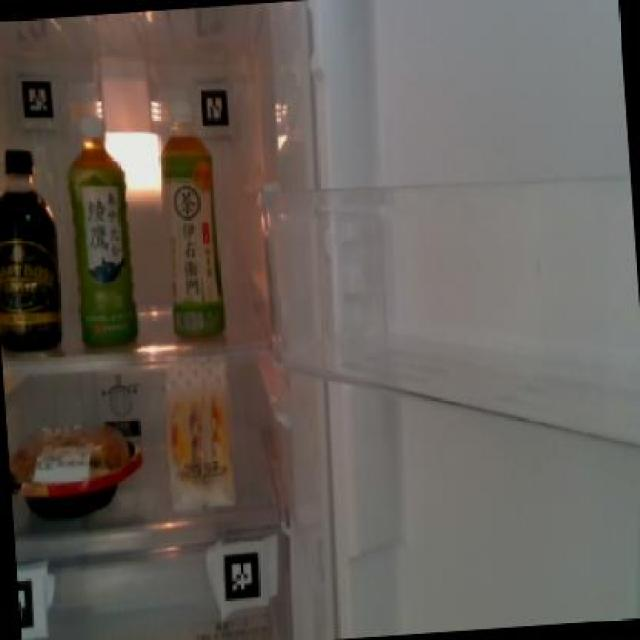bento: (8, 425, 144, 526)
coffee: (0, 142, 68, 362)
sandwich: (156, 354, 242, 511)
tea_a: (62, 113, 140, 350)
tea_i: (158, 126, 228, 348)
